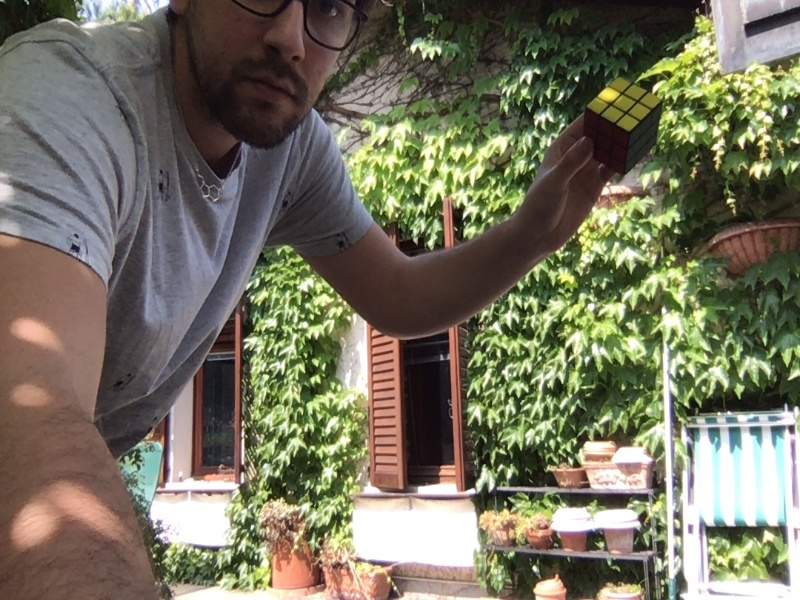rubik: (585, 76, 664, 173)
